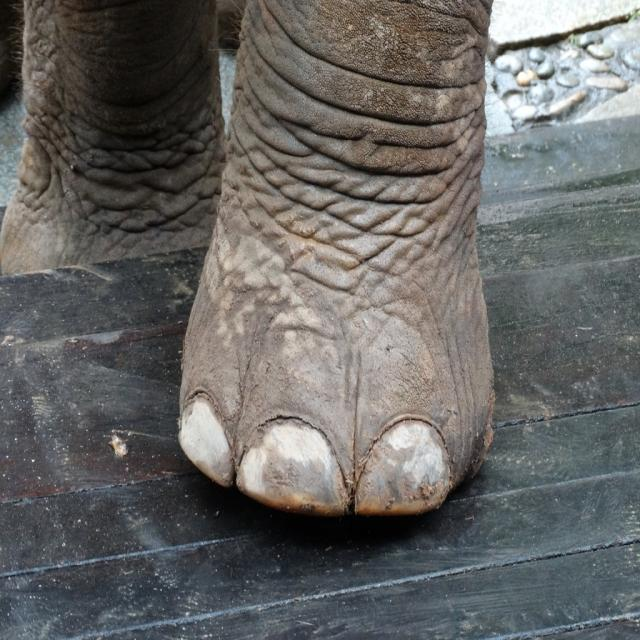Elephant: (3, 0, 500, 513)
